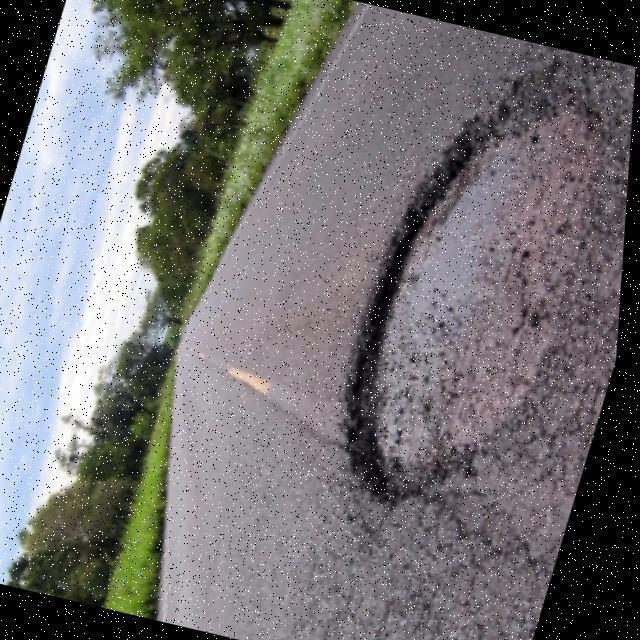Pothole: (333, 60, 635, 509)
